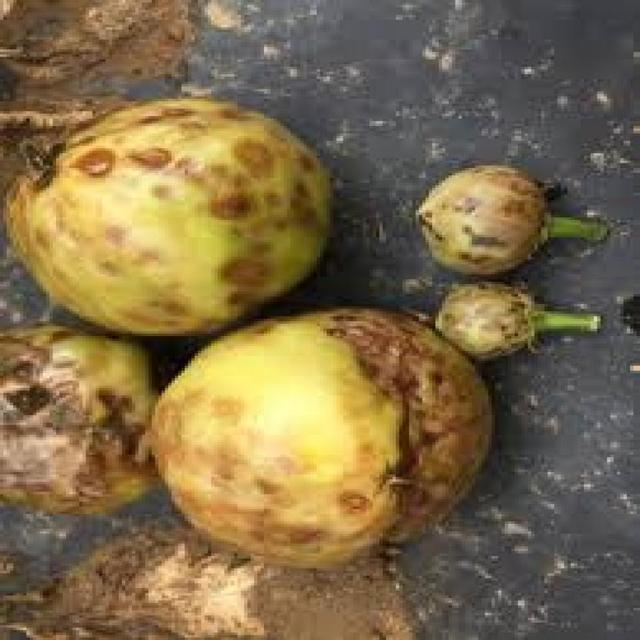Spotted wilt Virus Fruit: (0, 137, 352, 344)
